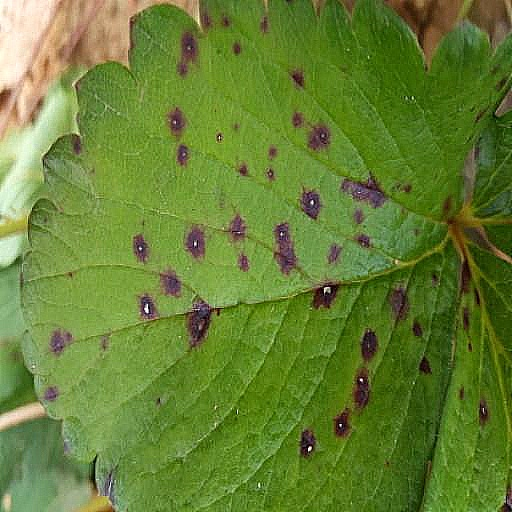Leaf Spot: (17, 0, 511, 511), (418, 0, 511, 282)
